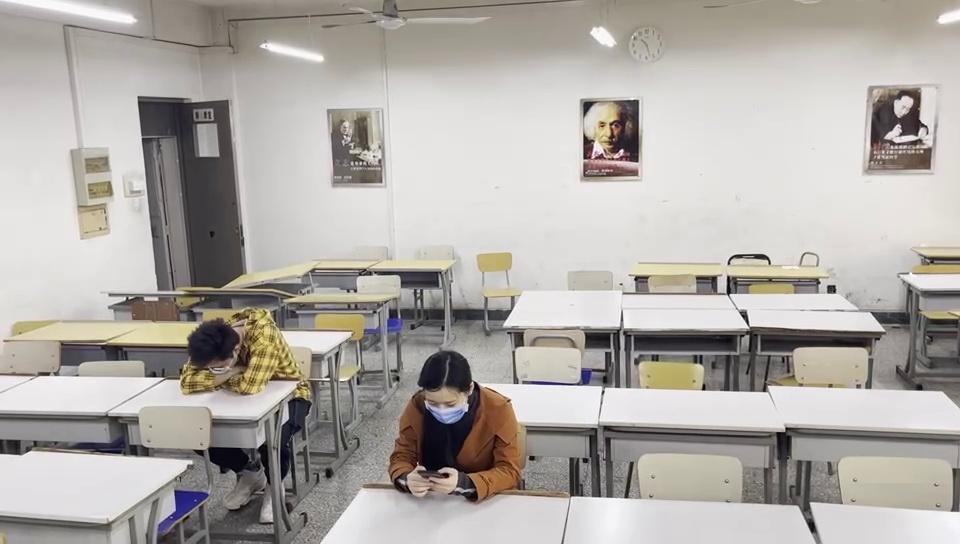phone: (388, 353, 518, 495)
sleep: (174, 305, 294, 394)
